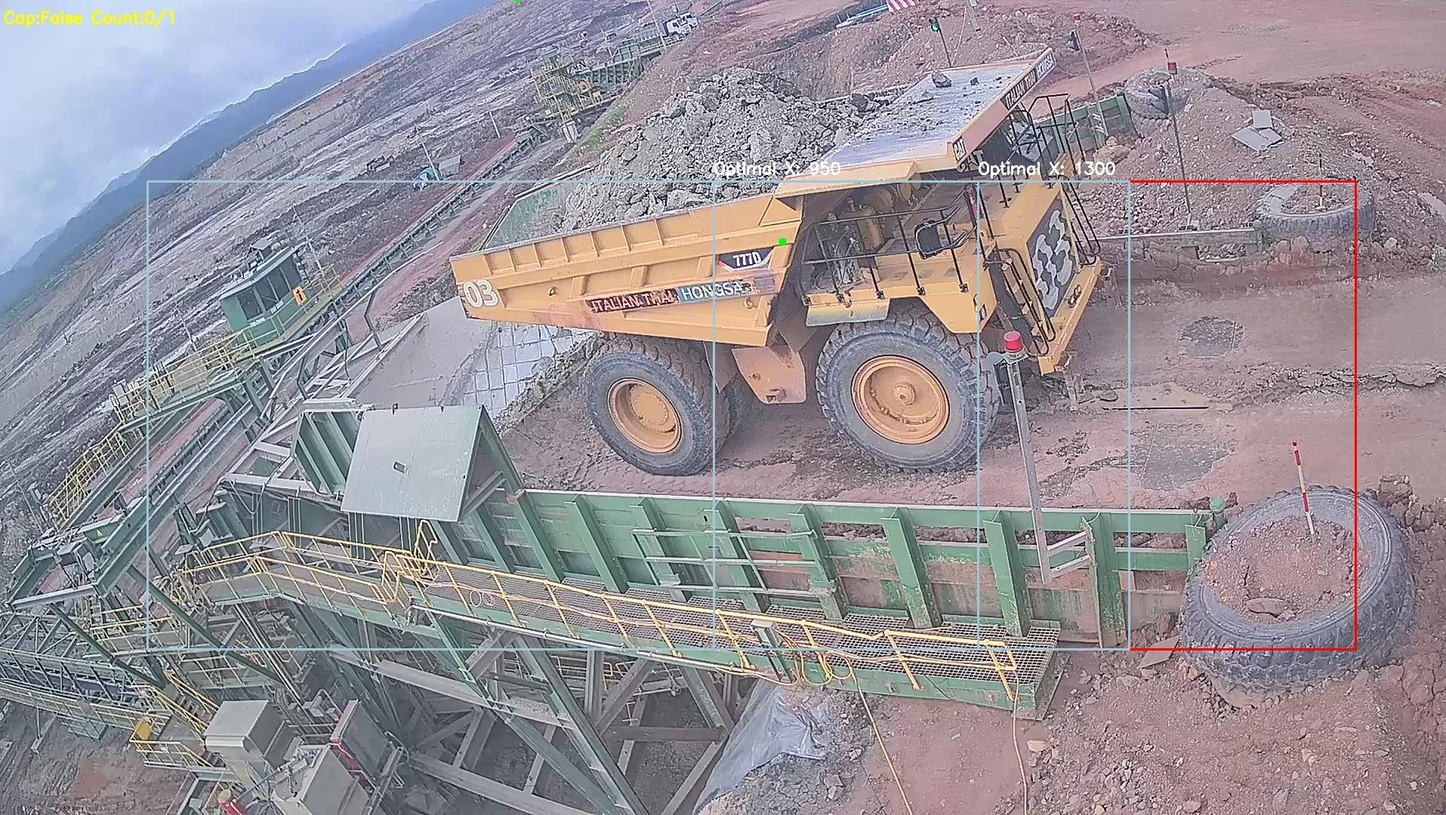company: (576, 274, 755, 317)
full_load: (604, 61, 846, 216)
mining_truck: (435, 39, 1141, 467)
tail_number: (455, 272, 506, 319)
truck_size: (713, 245, 775, 272)
